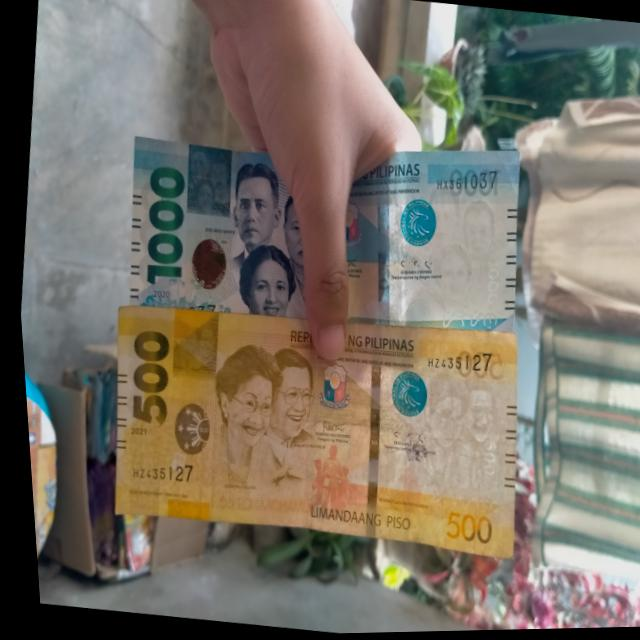concealed_value: (162, 306, 219, 385), (179, 144, 233, 220)
optically_variable_device: (174, 228, 231, 301), (155, 396, 214, 466)
security_thread: (341, 329, 392, 537), (354, 148, 406, 329)
see_through_mark: (425, 300, 495, 342), (411, 482, 488, 520)
serial_number: (118, 450, 195, 490), (417, 342, 492, 382), (426, 162, 497, 201)
value: (129, 162, 193, 293), (115, 325, 173, 431)
value_watermark: (476, 260, 501, 308), (470, 436, 494, 480)
watermark: (412, 180, 500, 312), (411, 368, 497, 473)
